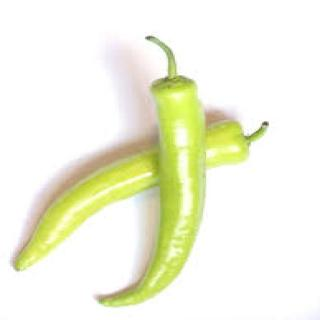Cabai Hijau: (14, 41, 161, 277), (125, 79, 199, 305)
